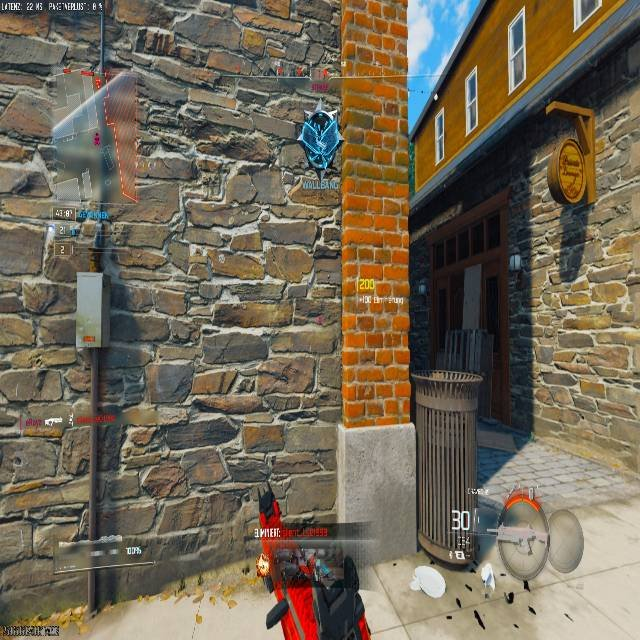player: (259, 534, 374, 639)
